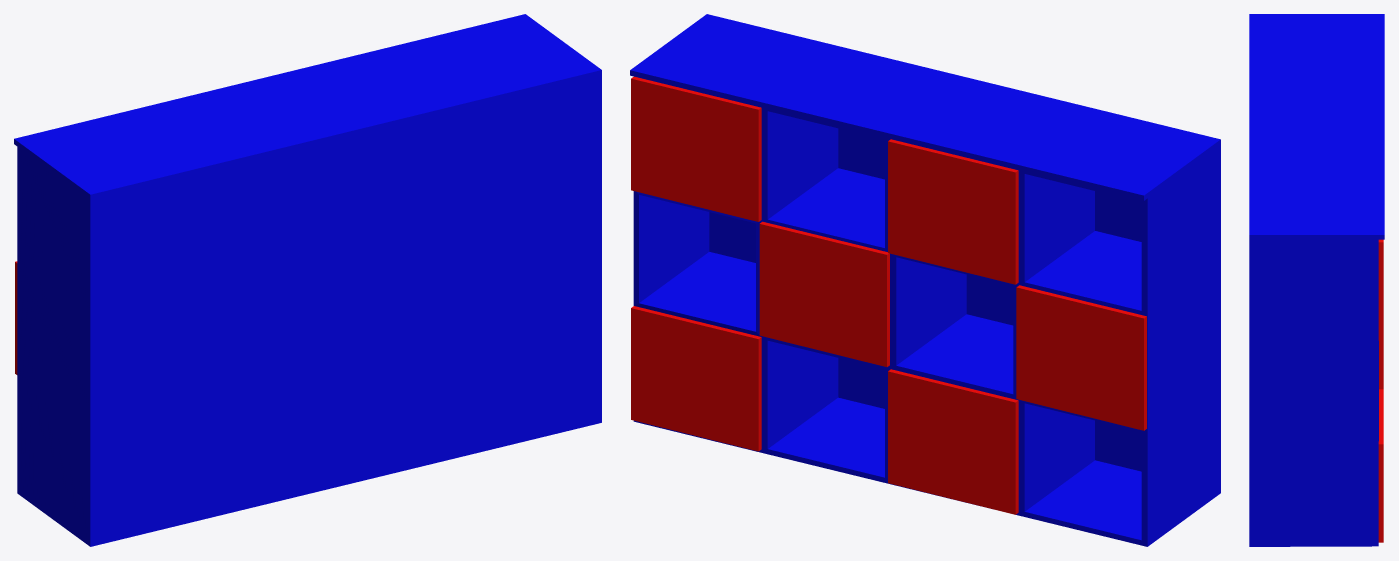
File: Bookshelf_01.fbx
3 renders of one model, left to right at view 1: azimuth 30°, elevation 25°; view 2: azimuth 150°, elevation 25°; view 3: azimuth 270°, elevation 25°, orthographic. The views are drawn at different scales.
Visible parts, largest first — view 1: Bookshelf_01; view 2: Bookshelf_01; view 3: Bookshelf_01.
Part boxes in pixels (x1,y1,x2,y2): Bookshelf_01: [14, 14, 601, 546]; Bookshelf_01: [630, 14, 1220, 546]; Bookshelf_01: [1249, 14, 1384, 546].
Bounding box in the file's own units: 218 × 144 × 56.39.
